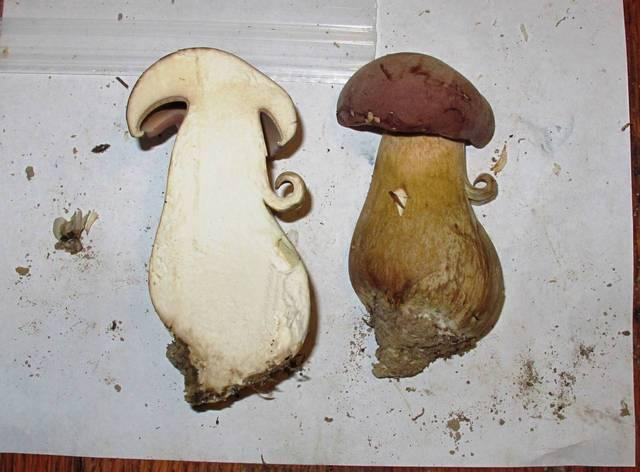Non-edible Mushroom: (124, 45, 313, 406), (334, 50, 506, 379)
